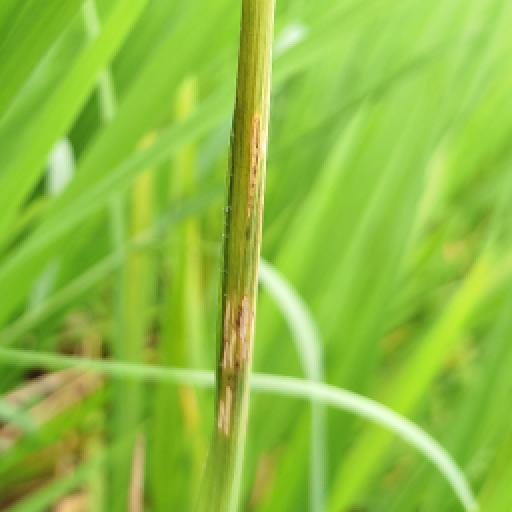Bacterial Leaf Blight: (206, 274, 264, 454), (230, 99, 274, 241)
